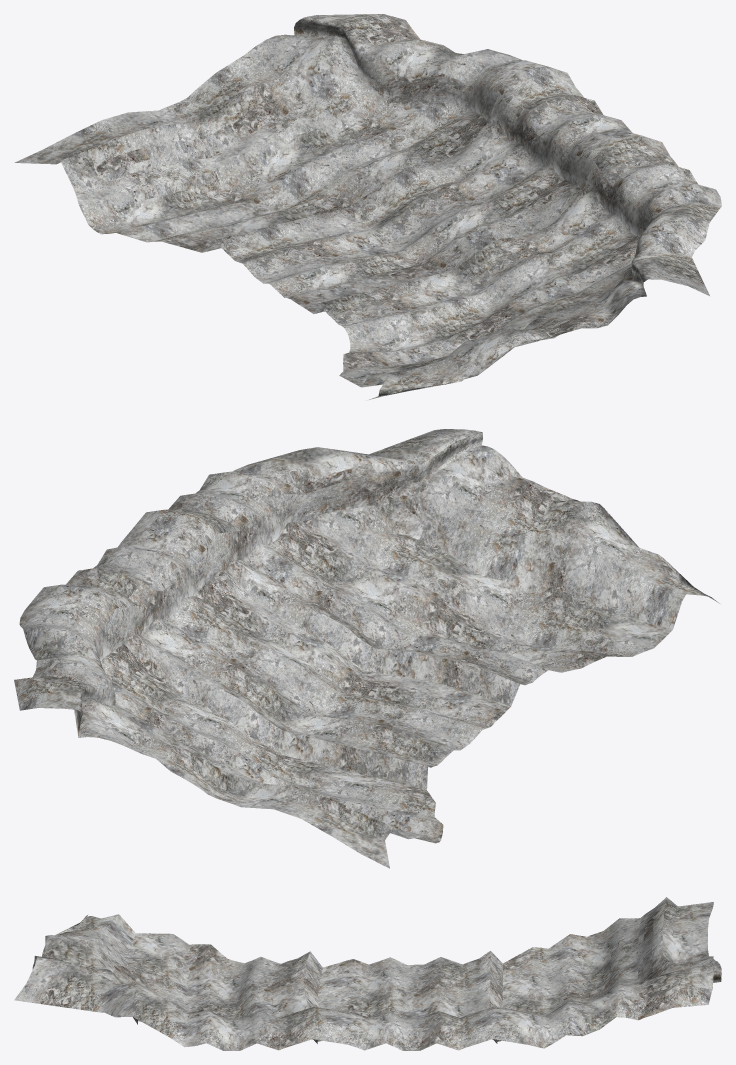
The model's file is mountain.glb.
The picture shows the model from 3 angles, top to bottom: view 1: azimuth 30°, elevation 25°; view 2: azimuth 150°, elevation 25°; view 3: azimuth 270°, elevation 25°; orthographic projection. The views are drawn at different scales.
Visible parts, largest first — view 1: Plano; view 2: Plano; view 3: Plano.
Part boxes in pixels (left/top/right/bottom): Plano: left=14, top=14, right=721, bottom=399; Plano: left=14, top=429, right=719, bottom=868; Plano: left=14, top=897, right=721, bottom=1050.
Size of the model in its own units: 810 by 190 by 1197.
1 material, 1 textured.
